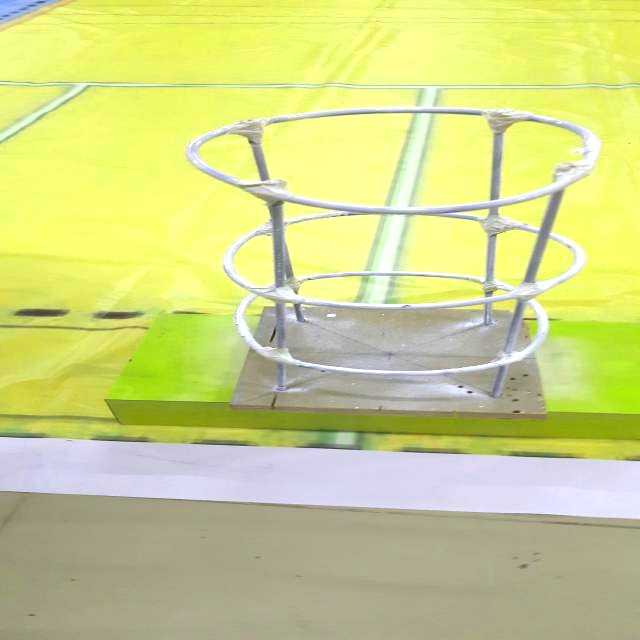silo: (150, 99, 605, 432)
